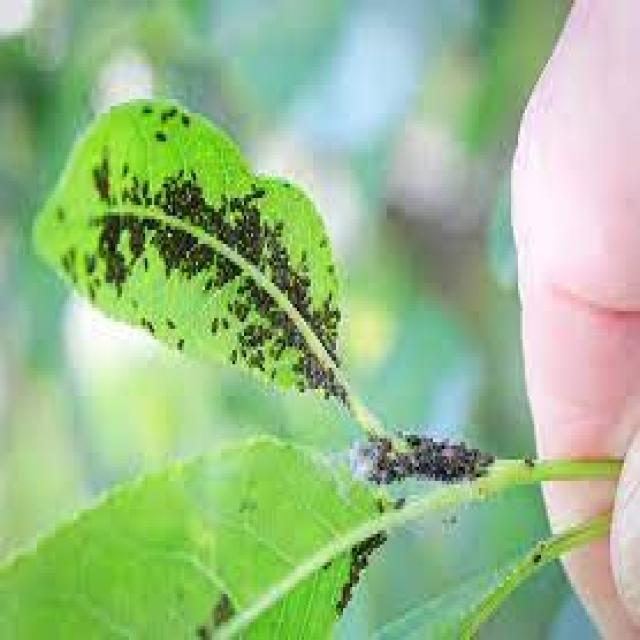aphid: (387, 488, 410, 516), (244, 173, 265, 202), (368, 488, 389, 516), (214, 308, 233, 336), (477, 438, 495, 467), (198, 269, 216, 297), (113, 152, 131, 180), (401, 424, 421, 449), (203, 311, 223, 336), (292, 240, 311, 266), (48, 198, 67, 223), (237, 265, 256, 290), (173, 102, 191, 128), (152, 102, 170, 128), (166, 328, 184, 354), (265, 357, 281, 386), (320, 357, 336, 386), (147, 124, 166, 148), (133, 96, 152, 120), (133, 248, 152, 272), (136, 311, 154, 336), (518, 449, 536, 474), (525, 541, 543, 566), (136, 170, 152, 198), (157, 308, 175, 332), (223, 343, 240, 368), (182, 159, 198, 184), (62, 237, 76, 265), (318, 552, 334, 576), (286, 354, 302, 378), (320, 254, 336, 276), (316, 226, 330, 251), (214, 184, 230, 205), (88, 269, 104, 290), (352, 544, 366, 566), (170, 159, 184, 180), (136, 212, 152, 230), (221, 294, 235, 314)
